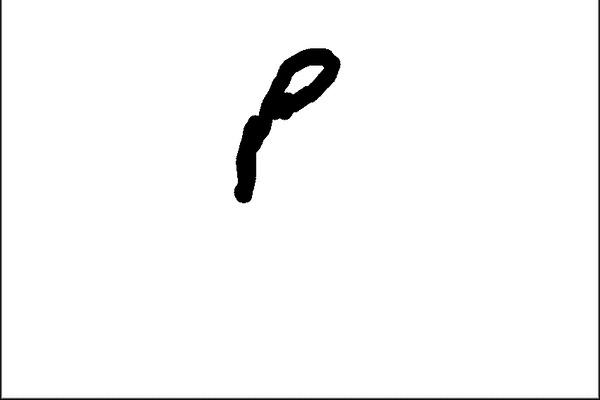P: (223, 38, 345, 211)
